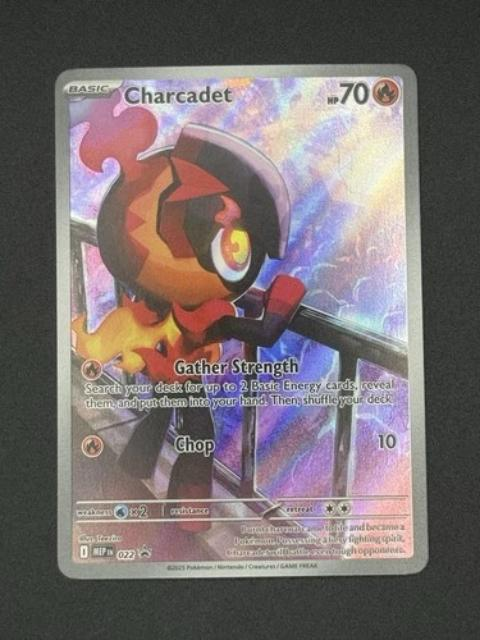Card: (51, 58, 431, 580)
Name: (116, 81, 236, 109)
